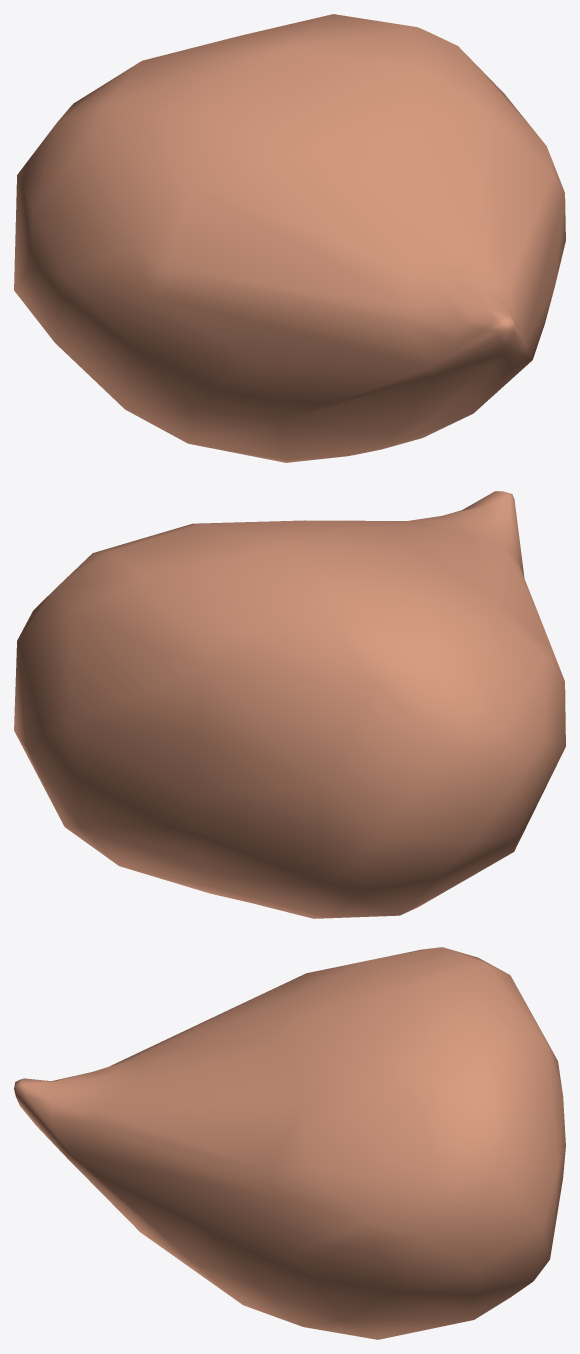
Rendered from urinary-bladder.glb.
The picture shows the model from 3 angles, top to bottom: view 1: azimuth 30°, elevation 25°; view 2: azimuth 150°, elevation 25°; view 3: azimuth 270°, elevation 25°; orthographic projection. The views are drawn at different scales.
Parts seen in each view (by area): view 1: Urinary bladder; view 2: Urinary bladder; view 3: Urinary bladder.
Part boxes in pixels (x1=…): Urinary bladder: x1=14, y1=14, x2=565, y2=462; Urinary bladder: x1=14, y1=491, x2=565, y2=918; Urinary bladder: x1=14, y1=947, x2=565, y2=1339.
Bounding box in the file's own units: 0.0759 × 0.0529 × 0.0839.
